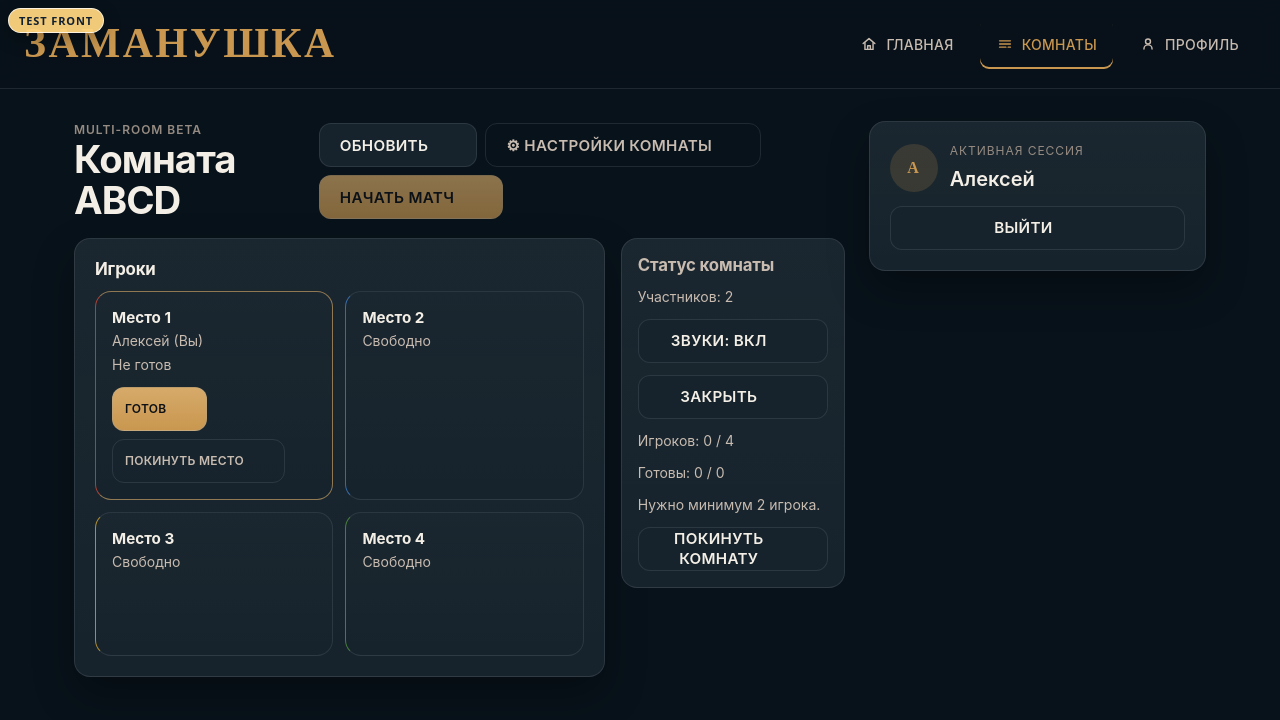
it: playable beta room flow › leaves a terminally reset room with the freshly loaded room version
The width and height of the screenshot is (1280, 720).
Click the button "Покинуть комнату" at (733, 549), box [638,527,828,571]
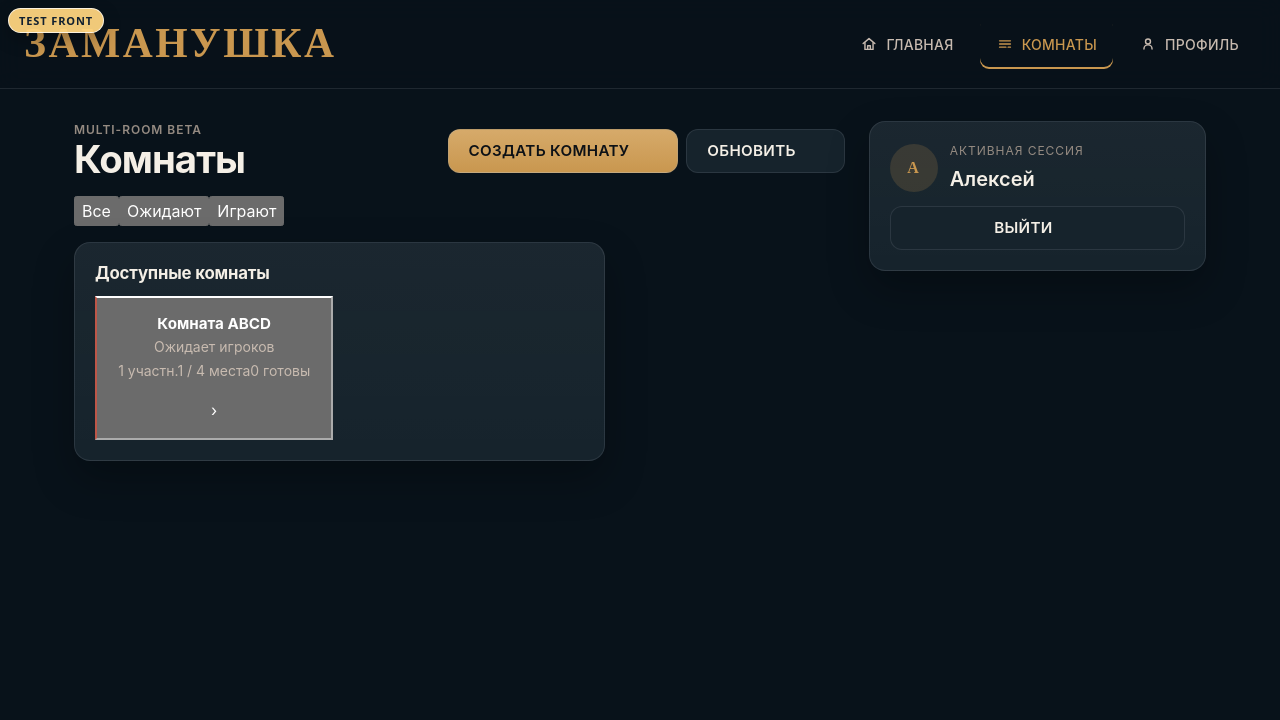
Check: the heading "Комнаты" is shown, box [74,139,245,180]
